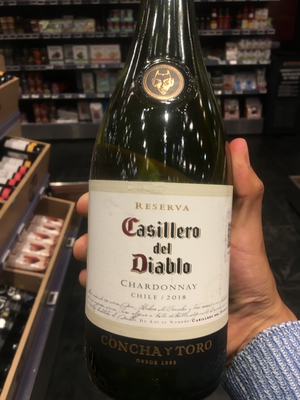casillero del diablo chardonnay: (84, 28, 241, 400)
